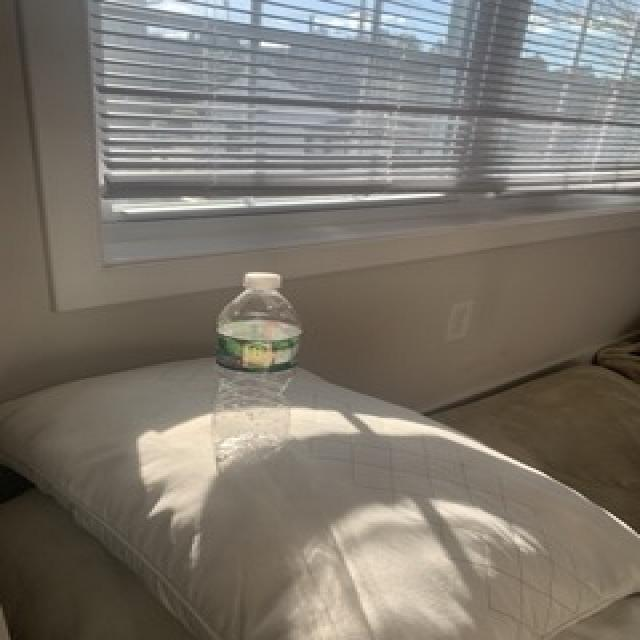water_bottle: (208, 268, 304, 469)
